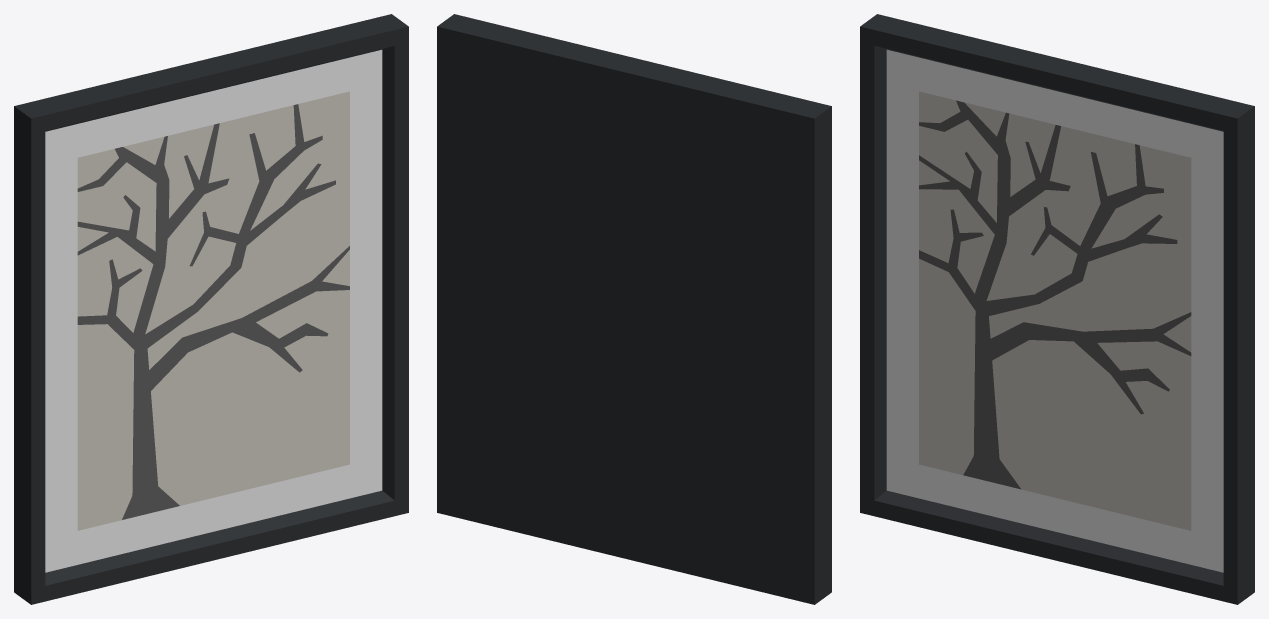
File: SM_Prop_Art_06.fbx
3 renders of one model, left to right at view 1: azimuth 30°, elevation 25°; view 2: azimuth 150°, elevation 25°; view 3: azimuth 330°, elevation 25°, orthographic.
Visible parts, largest first — view 1: SM_Prop_Art_06; view 2: SM_Prop_Art_06; view 3: SM_Prop_Art_06.
Boxes of the visible parts, left/top/right/bottom form: SM_Prop_Art_06: left=14, top=14, right=408, bottom=604; SM_Prop_Art_06: left=437, top=14, right=831, bottom=604; SM_Prop_Art_06: left=860, top=14, right=1254, bottom=604.
Size of the model in its own units: 69.3 by 85.28 by 5.45.
